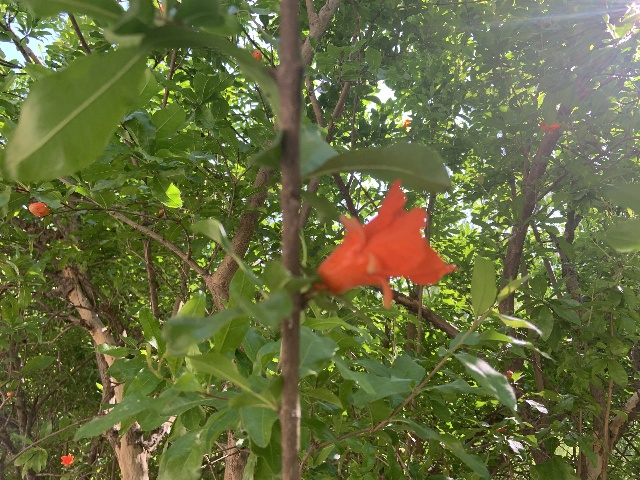bud: (28, 202, 51, 216), (251, 50, 261, 61), (506, 370, 513, 378)
flower: (316, 178, 456, 309), (539, 121, 560, 133), (60, 453, 73, 466), (403, 118, 411, 128)
